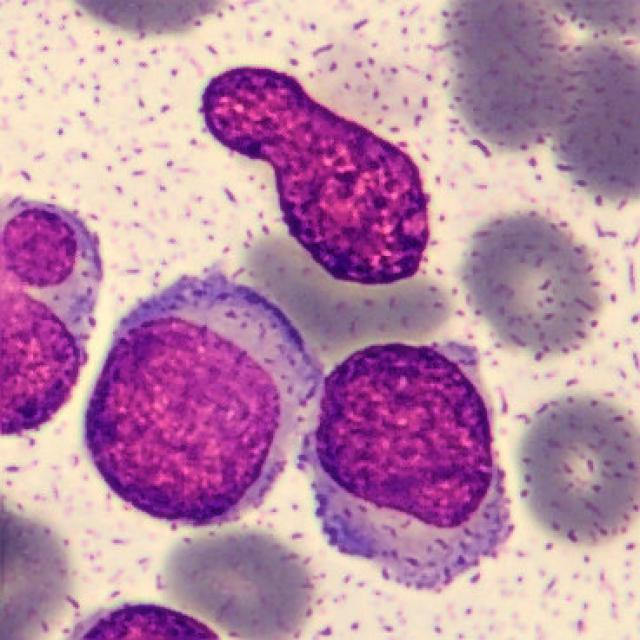Mieloblasto: (83, 277, 322, 528), (306, 346, 511, 592)
Restos celulares: (200, 67, 431, 287)
